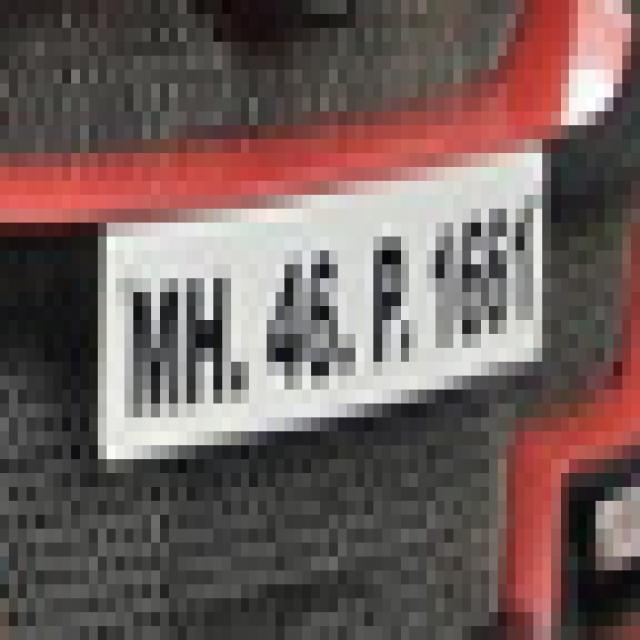1: (428, 206, 460, 366), (512, 186, 538, 335)
4: (258, 240, 308, 404)
5: (301, 226, 351, 388), (485, 185, 516, 336), (457, 196, 486, 345)
H: (182, 260, 232, 423)
M: (124, 263, 183, 416)
P: (363, 226, 408, 374)
